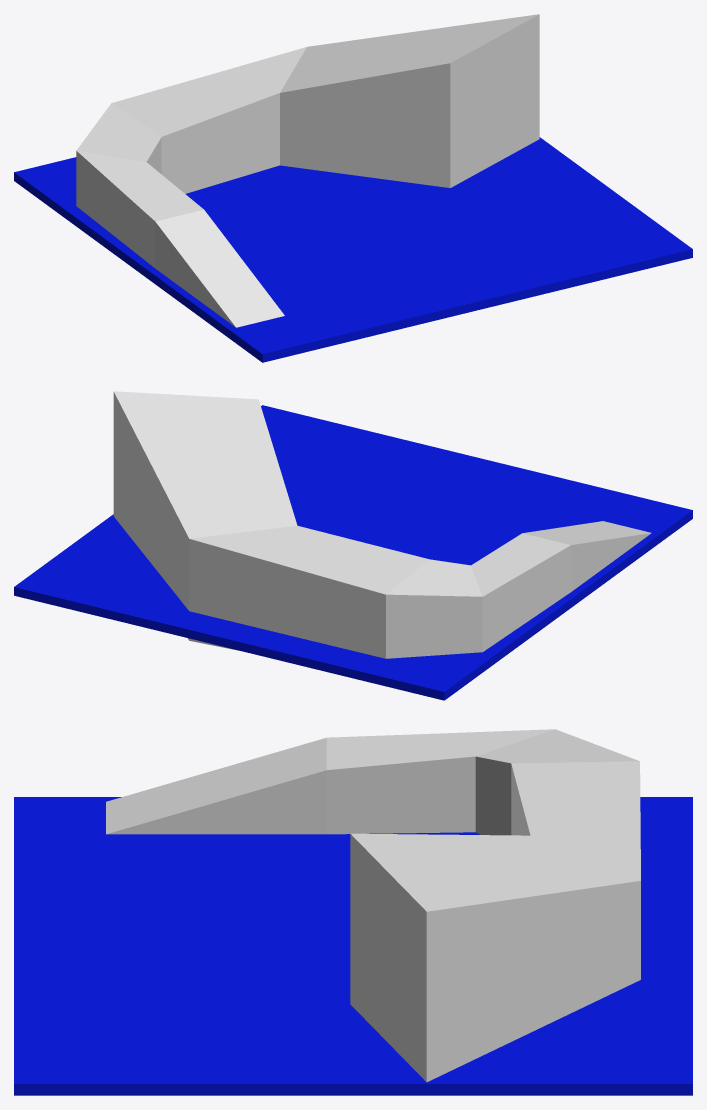
The model's file is level_test.glb.
3 views of the same model, one above another, from view 1: azimuth 30°, elevation 25°; view 2: azimuth 150°, elevation 25°; view 3: azimuth 270°, elevation 25° (orthographic). The views are drawn at different scales.
Visible parts, largest first — view 1: Cube.001, Cube; view 2: Cube.001, Cube; view 3: Cube, Cube.001.
Boxes of the visible parts, x1=… form: Cube.001: x1=76, y1=14, x2=539, y2=327; Cube: x1=14, y1=137, x2=692, y2=362; Cube.001: x1=113, y1=391, x2=651, y2=658; Cube: x1=14, y1=405, x2=692, y2=700; Cube: x1=14, y1=797, x2=692, y2=1095; Cube.001: x1=106, y1=729, x2=640, y2=1082.
Bounding box in the file's own units: 33.32 × 11.43 × 33.32.
